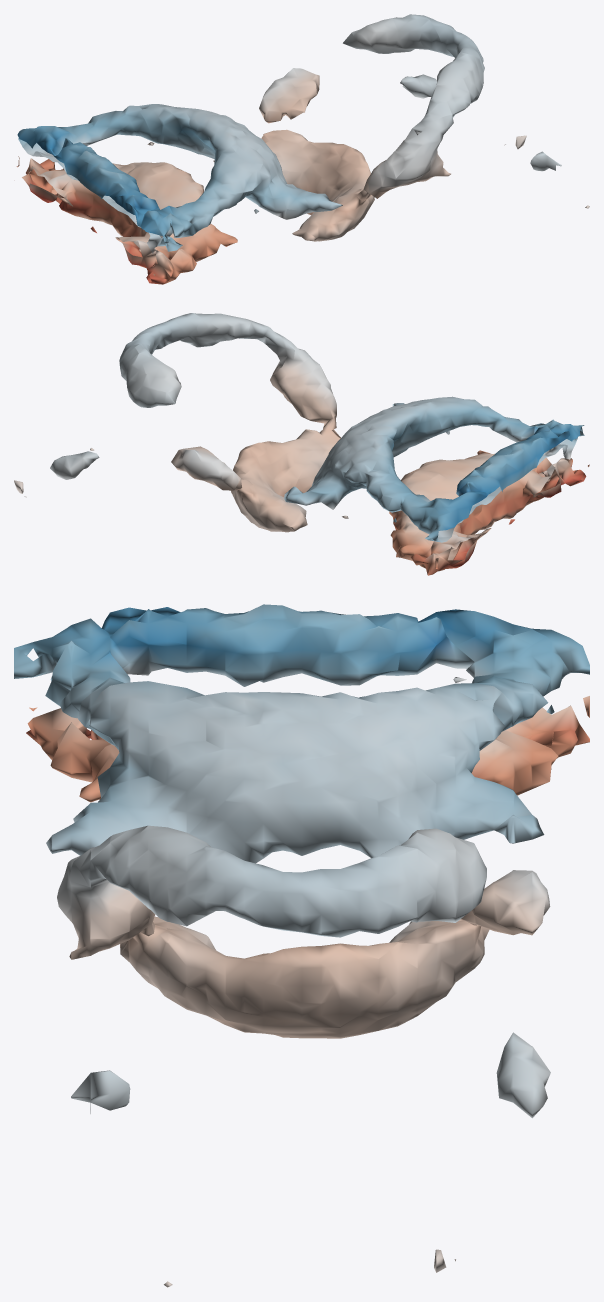
3 renders of one model, top to bottom at view 1: azimuth 30°, elevation 25°; view 2: azimuth 150°, elevation 25°; view 3: azimuth 270°, elevation 25°, orthographic. The views are drawn at different scales.
Bounding box in the file's own units: 4.6 × 1.61 × 2.5.
